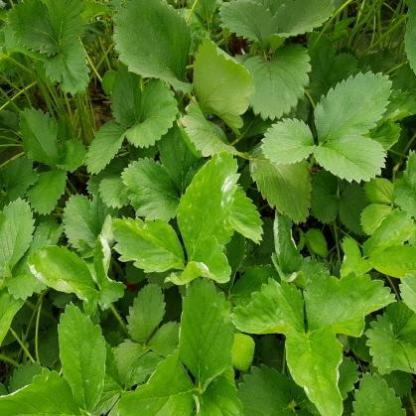Strawberry_Powdery_Mildew_Leaf: (176, 150, 242, 264), (248, 141, 314, 225), (284, 324, 344, 415), (26, 244, 96, 316), (162, 234, 232, 287), (92, 232, 128, 314), (270, 208, 307, 286)
